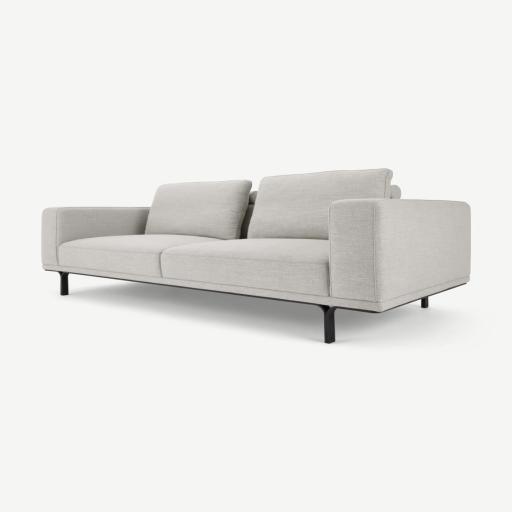back_cushion: (249, 169, 391, 239), (146, 180, 250, 239)
base: (62, 267, 468, 313)
left_arm: (329, 199, 470, 308)
legs: (312, 304, 346, 343), (59, 271, 69, 295), (421, 297, 428, 307)
right_arm: (42, 208, 148, 265)
seat_cushion: (59, 235, 329, 296)
two-seater: (0, 0, 511, 512)
